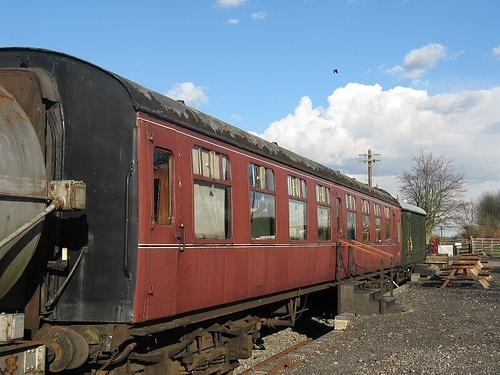train: (1, 41, 429, 375)
